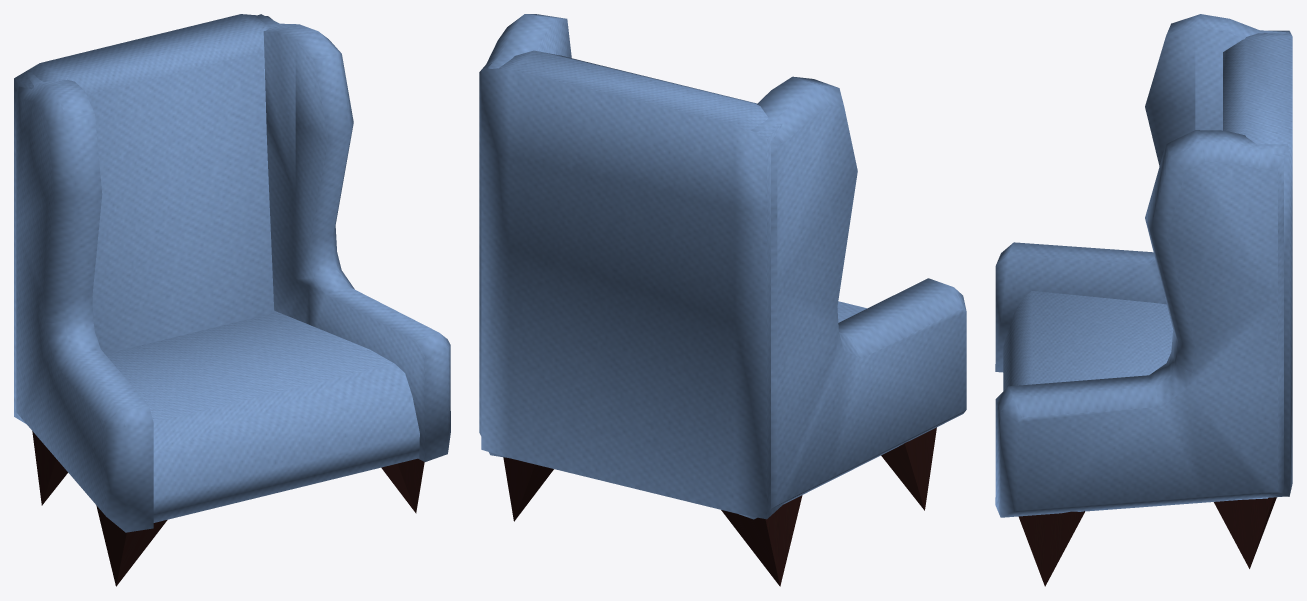
The model's file is Winged_Armchair_B_2.FBX.
3 renders of one model, left to right at view 1: azimuth 30°, elevation 25°; view 2: azimuth 150°, elevation 25°; view 3: azimuth 270°, elevation 25°, orthographic. The views are drawn at different scales.
Parts seen in each view (by area): view 1: Winged_Armchair; view 2: Winged_Armchair; view 3: Winged_Armchair.
Part boxes in pixels (left/top/right/bottom): Winged_Armchair: left=14, top=14, right=450, bottom=586; Winged_Armchair: left=479, top=14, right=966, bottom=586; Winged_Armchair: left=995, top=14, right=1292, bottom=586.
Bounding box in the file's own units: 174 × 208 × 129.
